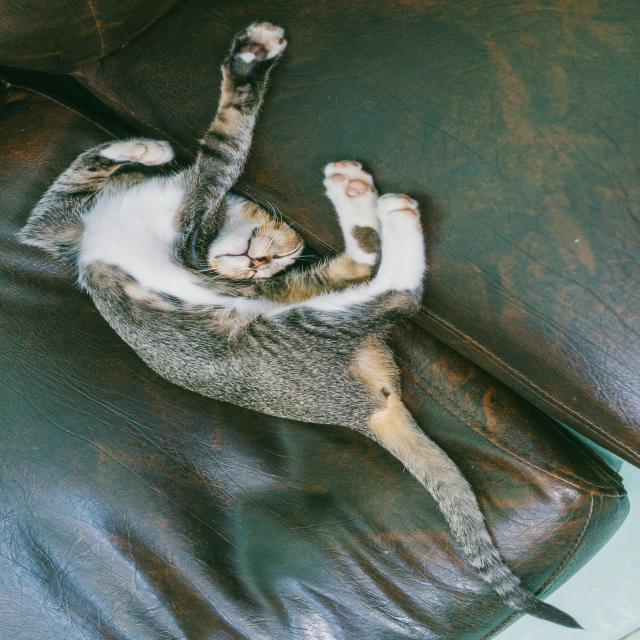cat: (17, 22, 620, 639)
